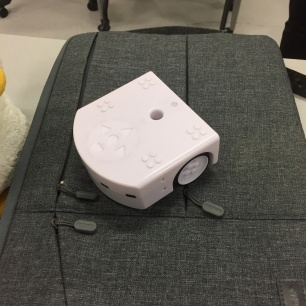thymio: (70, 69, 221, 211)
